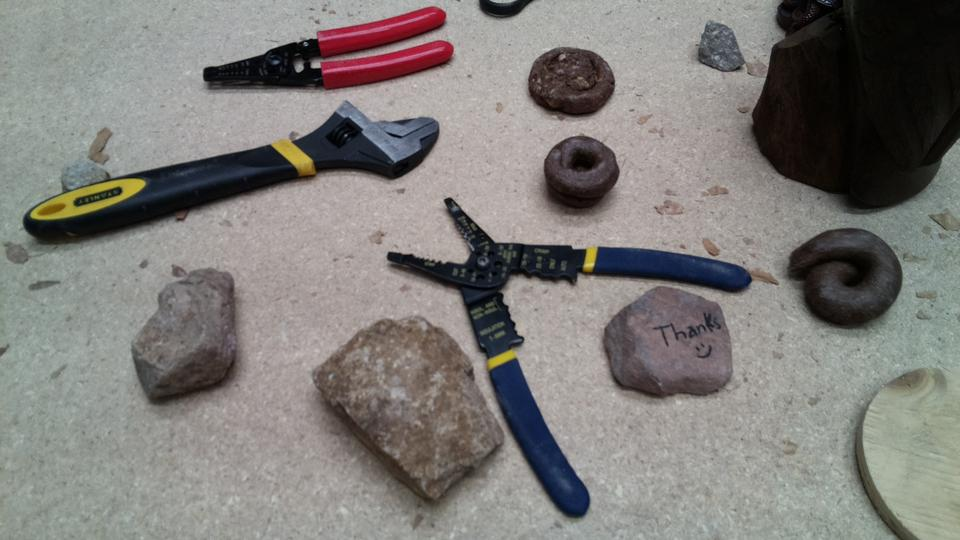poop: (781, 225, 906, 333), (524, 44, 619, 117), (541, 133, 622, 212)
